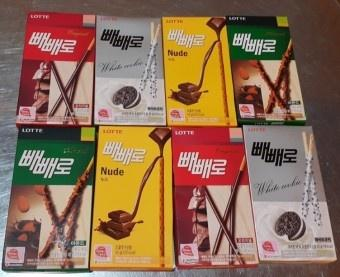snack: (1, 125, 98, 273), (243, 124, 337, 262), (89, 126, 175, 273), (171, 127, 260, 269), (14, 9, 96, 126), (226, 15, 307, 125), (160, 16, 238, 126), (94, 14, 166, 126)
